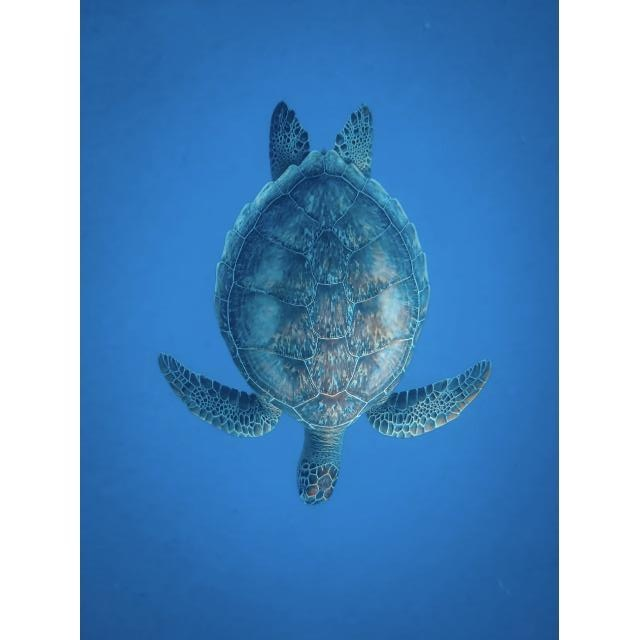turtle: (157, 98, 492, 508)
